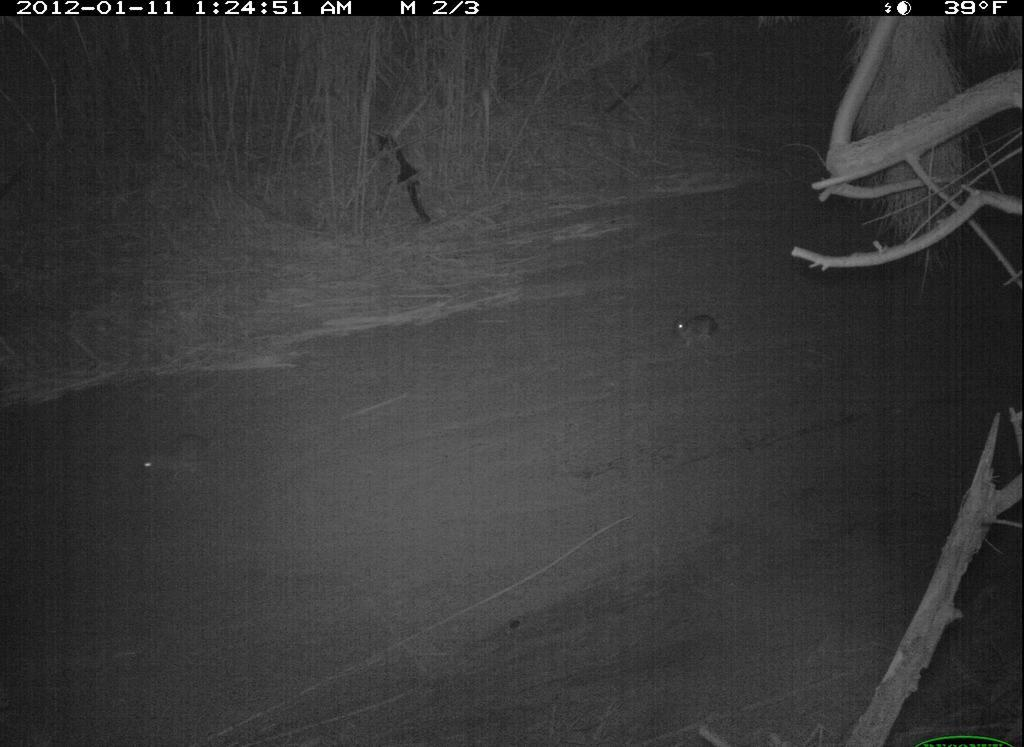rabbit: (136, 427, 222, 492), (665, 296, 728, 353)
